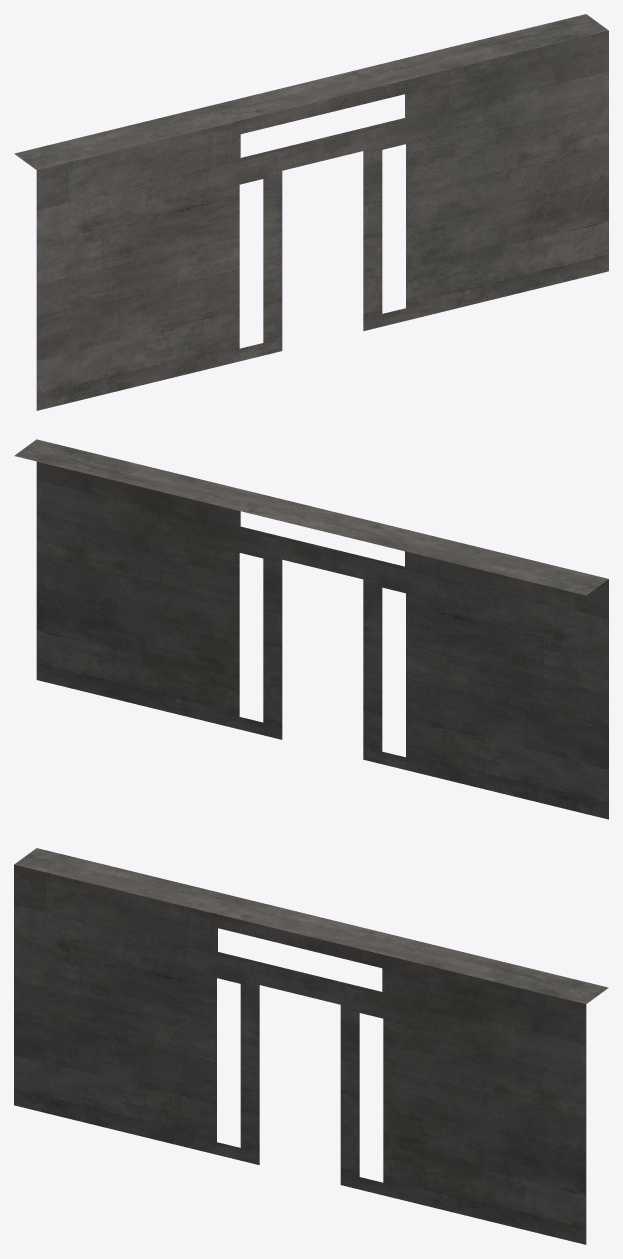
File: kaigisituframe2.fbx
3 views of the same model, one above another, from view 1: azimuth 30°, elevation 25°; view 2: azimuth 150°, elevation 25°; view 3: azimuth 330°, elevation 25° (orthographic).
Visible parts, largest first — view 1: Plane.023; view 2: Plane.023; view 3: Plane.023.
Boxes of the visible parts, x1=… form: Plane.023: x1=14, y1=14, x2=608, y2=410; Plane.023: x1=14, y1=439, x2=608, y2=819; Plane.023: x1=14, y1=848, x2=608, y2=1244.
Bounding box in the file's own units: 17.48 × 7.03 × 1.2.
1 material, 1 textured.
